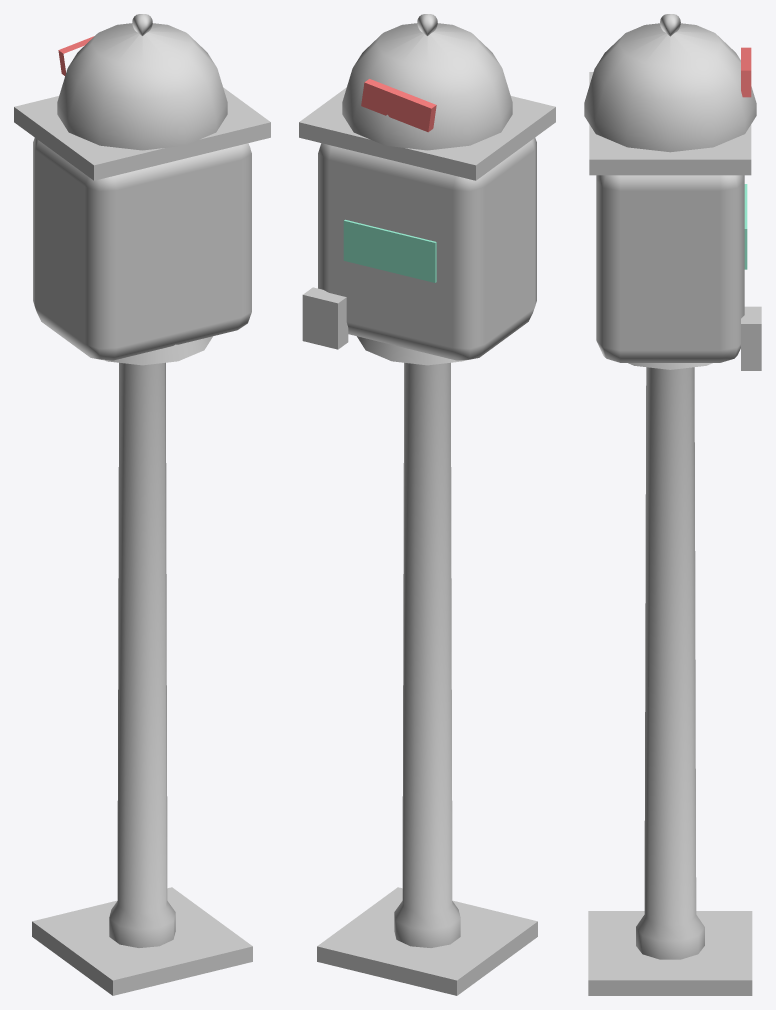
The model's file is ParkingMeter.glb.
The picture shows the model from 3 angles, left to right: view 1: azimuth 30°, elevation 25°; view 2: azimuth 150°, elevation 25°; view 3: azimuth 270°, elevation 25°; orthographic projection.
Visible parts, largest first — view 1: Body; view 2: Body, Glow, Flag; view 3: Body, Flag.
Boxes of the visible parts, x1=… form: Body: x1=14, y1=14, x2=270, y2=995; Body: x1=299, y1=14, x2=555, y2=995; Glow: x1=343, y1=219, x2=436, y2=282; Flag: x1=361, y1=79, x2=436, y2=132; Body: x1=584, y1=14, x2=761, y2=995; Flag: x1=741, y1=47, x2=751, y2=97.
Bounding box in the file's own units: 1.2 × 6.06 × 1.03.
